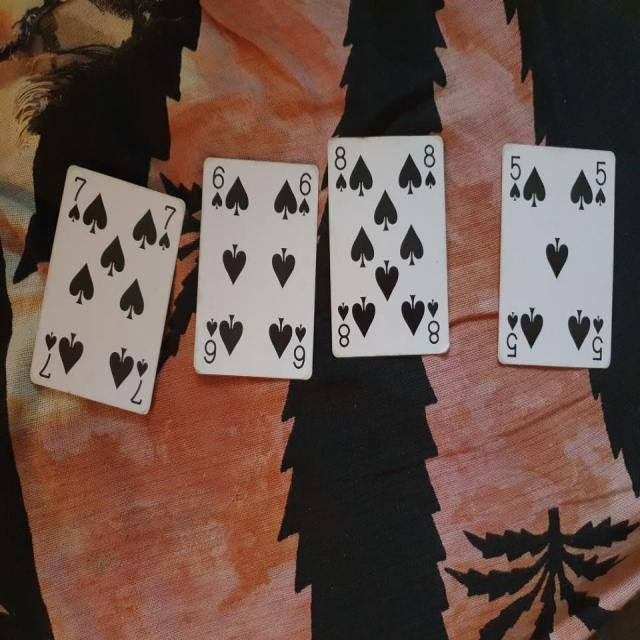5 Spades: (496, 145, 618, 370)
6 Spades: (191, 144, 322, 390)
7 Spades: (29, 148, 185, 423)
8 Spades: (325, 126, 456, 369)
